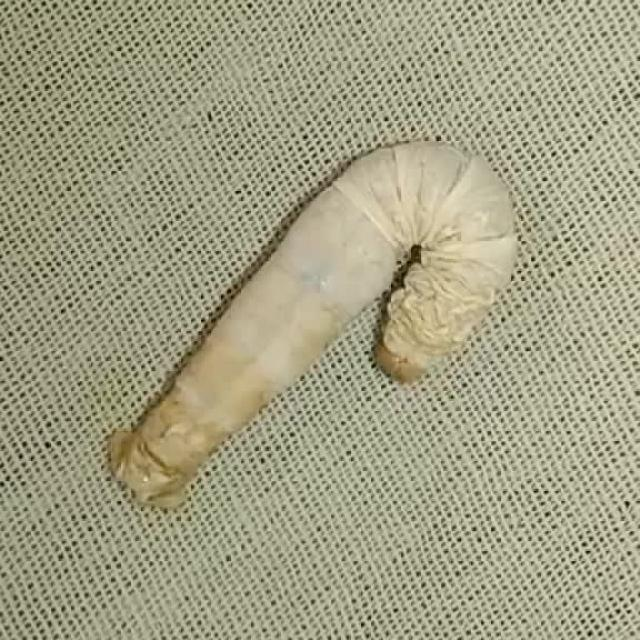Grasserie: (99, 131, 528, 527)
